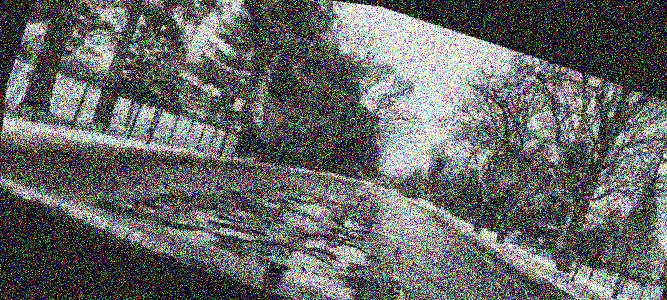pothole: (218, 216, 273, 240), (92, 195, 139, 223), (157, 185, 195, 211), (330, 225, 367, 245), (263, 260, 290, 281), (309, 244, 337, 262)
